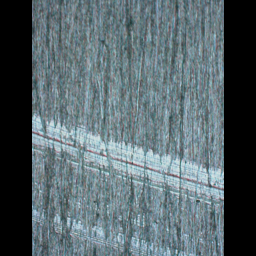d: (32, 113, 223, 209), (32, 209, 195, 255)
